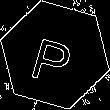P_N: (30, 25, 80, 85)
